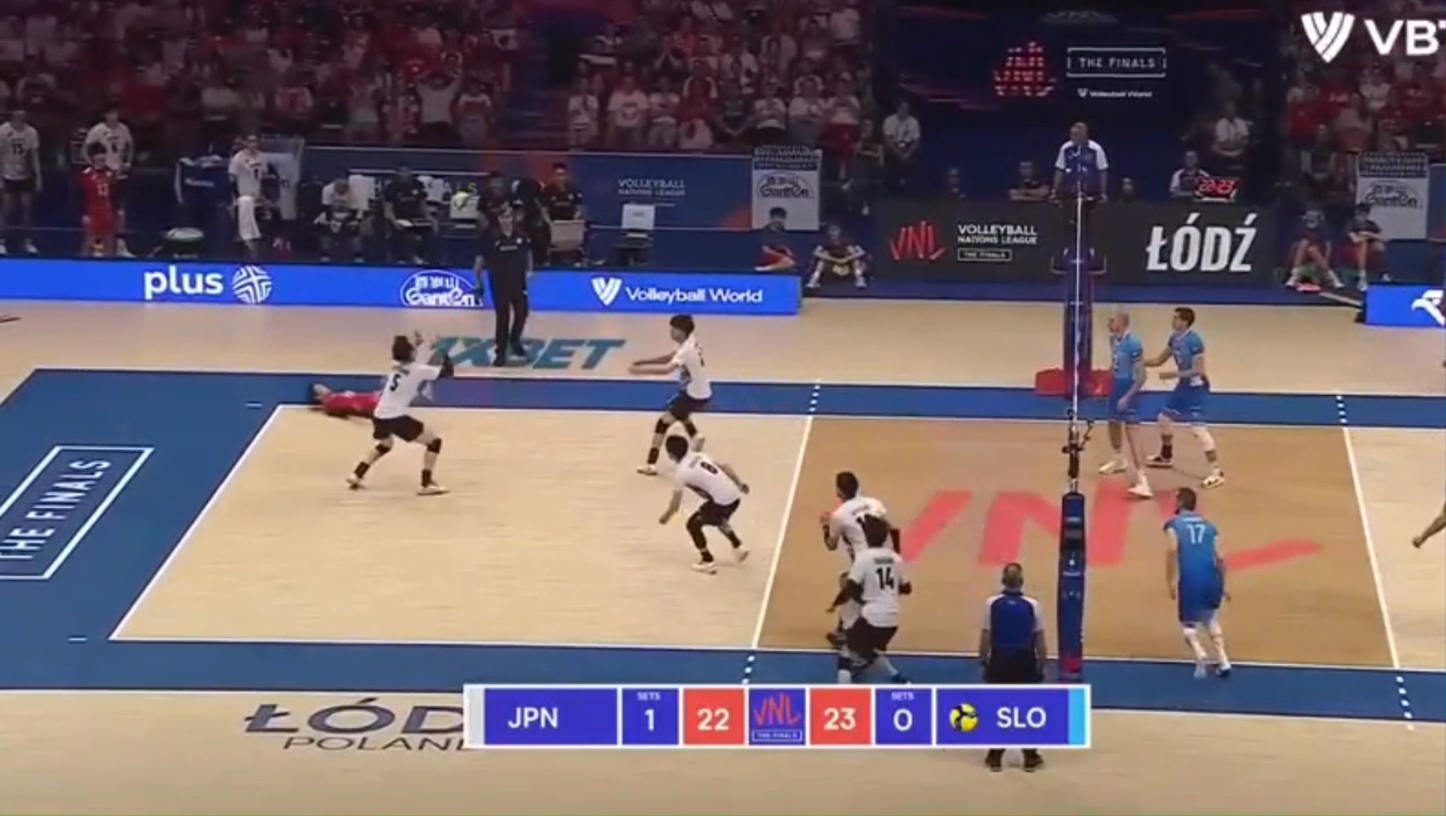ball: (451, 190, 470, 209)
player: (1145, 307, 1225, 487), (1163, 487, 1231, 678), (1099, 311, 1152, 498), (1413, 503, 1445, 548)
player 1: (348, 335, 453, 494), (830, 516, 912, 682), (629, 314, 712, 474), (659, 436, 749, 573), (823, 471, 899, 563), (309, 382, 380, 418), (827, 602, 857, 647)
referee: (1050, 122, 1108, 274), (477, 208, 532, 366), (979, 562, 1047, 684), (1021, 747, 1043, 771), (985, 747, 1005, 770)
